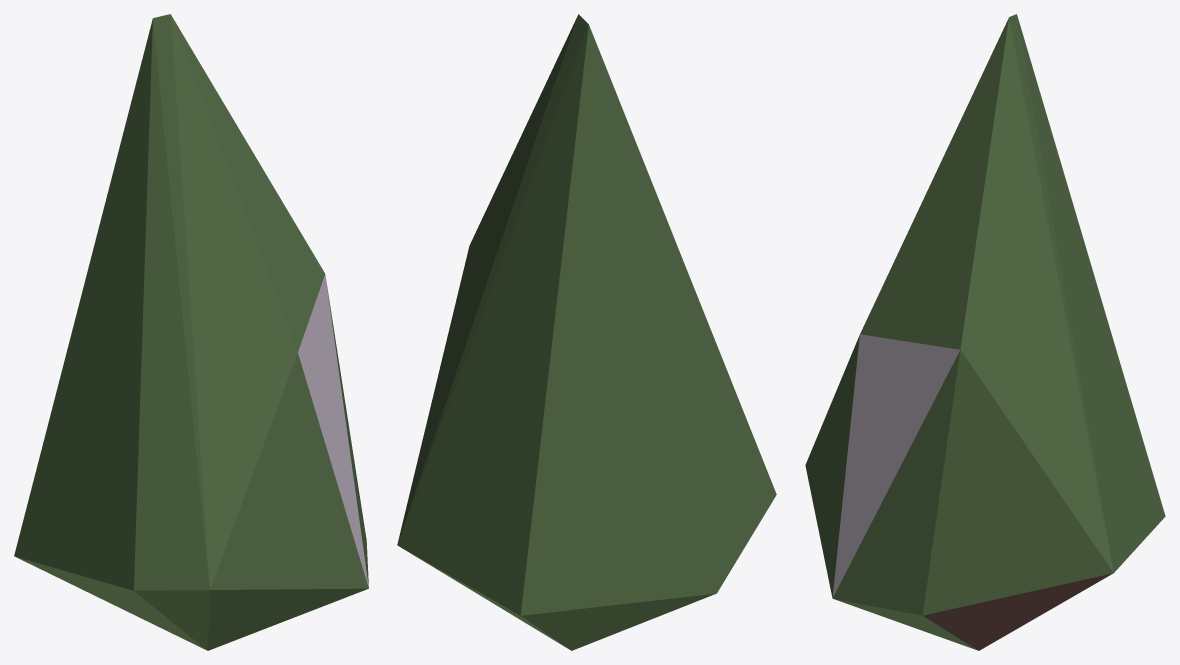
Rendered from PineTree_Snow_2.lod4.glb.
3 views of the same model, side by side, from view 1: azimuth 30°, elevation 25°; view 2: azimuth 150°, elevation 25°; view 3: azimuth 270°, elevation 25° (orthographic). The views are drawn at different scales.
Parts seen in each view (by area): view 1: PineTree_Snow_2; view 2: PineTree_Snow_2; view 3: PineTree_Snow_2.
Part boxes in pixels (x1,y1,x2,y2): PineTree_Snow_2: (14,14,368,650); PineTree_Snow_2: (397,14,776,650); PineTree_Snow_2: (805,14,1165,650).
Bounding box in the file's own units: 1.81 × 3.67 × 1.92.
